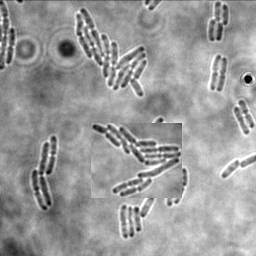Dividing: (175, 167, 189, 204), (238, 99, 255, 128), (209, 54, 222, 90), (217, 56, 228, 92), (7, 27, 17, 64)
Microcolony: (91, 123, 182, 198), (76, 7, 147, 98), (32, 135, 57, 211), (120, 198, 155, 238), (208, 1, 229, 42)
Rod: (233, 106, 251, 135), (222, 157, 240, 178)
